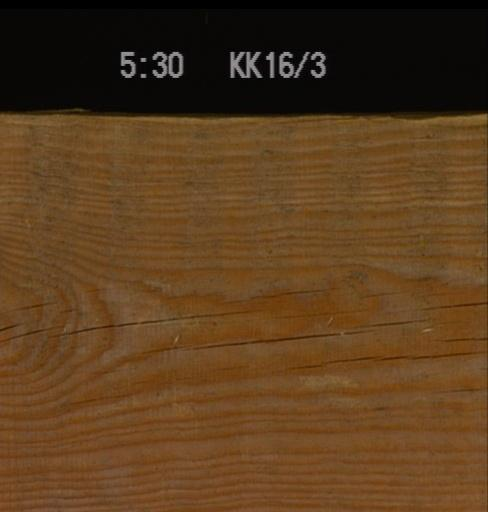split: (49, 304, 255, 336), (189, 326, 373, 348), (287, 351, 377, 371), (261, 306, 362, 321), (0, 321, 58, 346), (249, 282, 337, 298), (374, 347, 486, 359), (272, 113, 360, 124), (421, 298, 486, 308), (5, 297, 50, 310), (350, 317, 427, 324), (355, 288, 410, 297), (430, 334, 486, 340), (426, 385, 482, 391)
